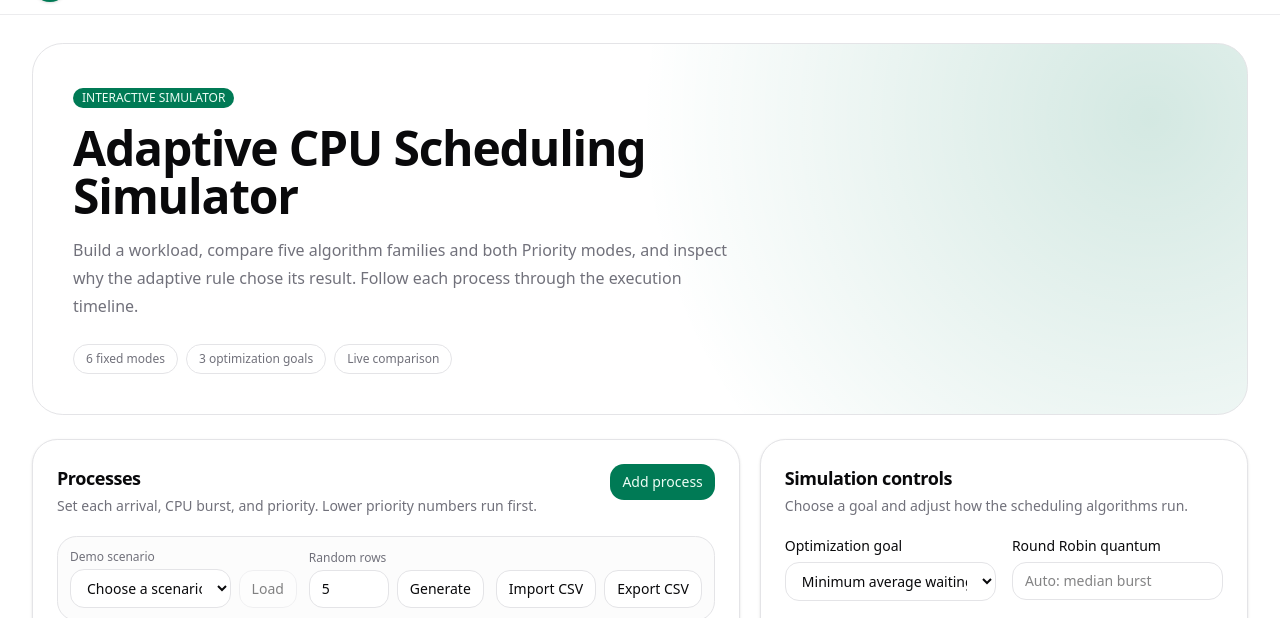
Test case: simulator workflow › runs the manually adjusted batch demo scenario
Select "Batch high variance" in the dropdown labelled "Demo scenario" at {"x": 150, "y": 588}, box [70,569,231,608]
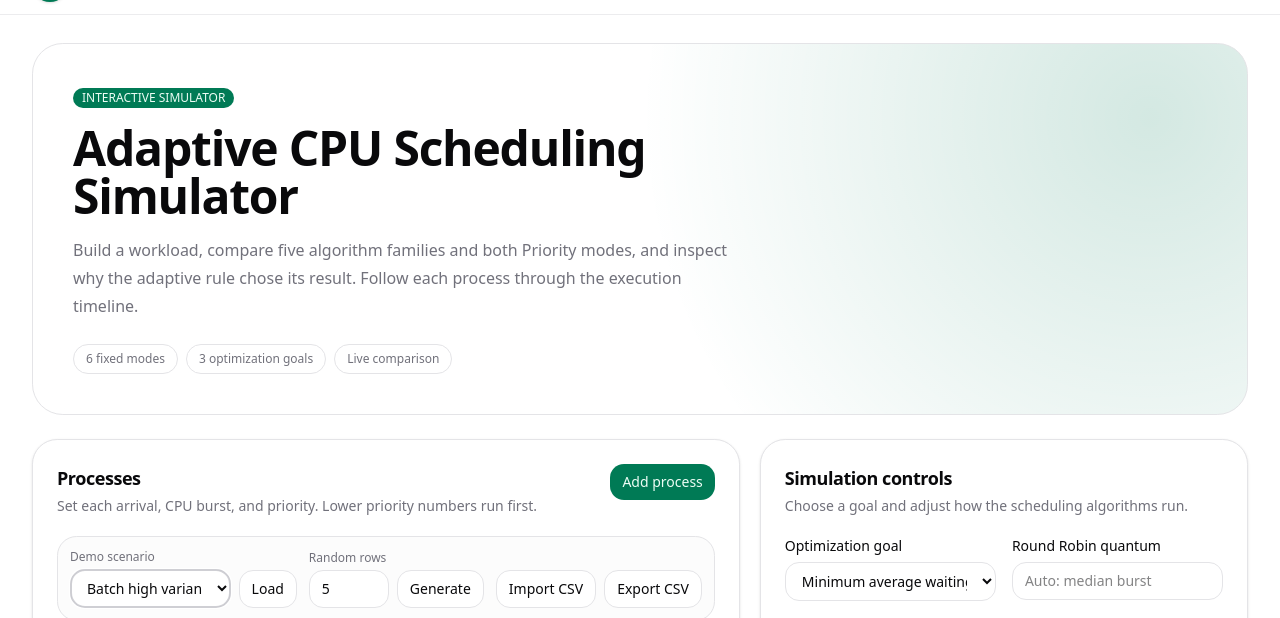
Click the button "Load" at {"x": 268, "y": 589}, box [239,570,297,608]
(page scrolled)
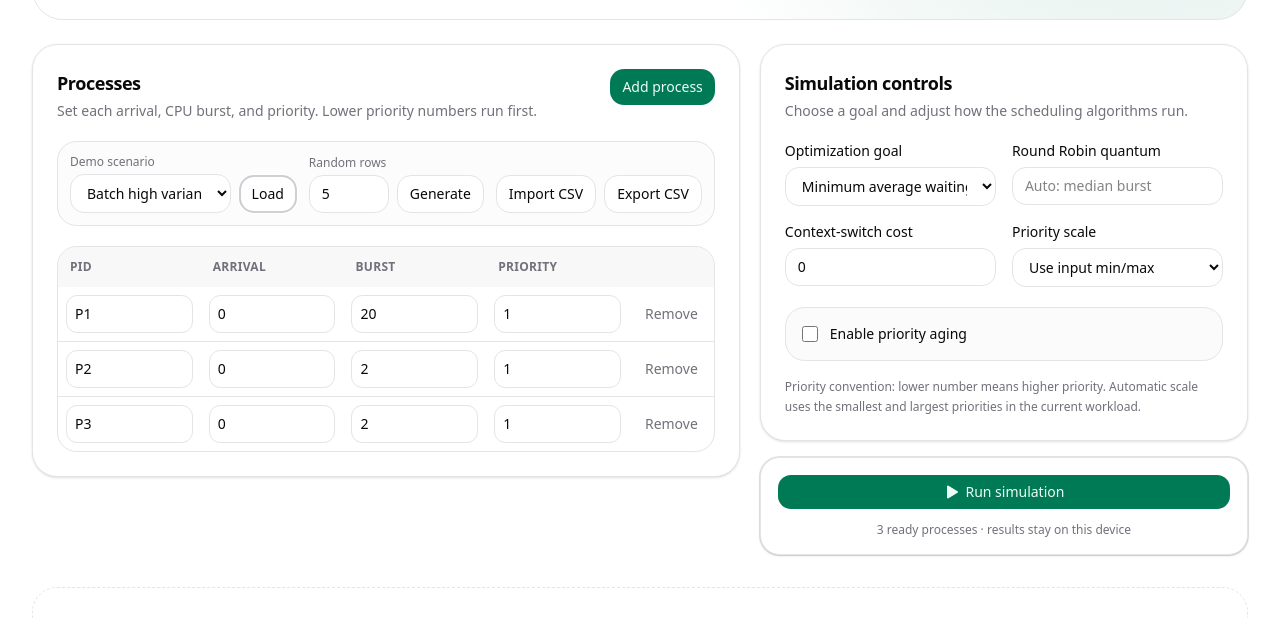
Replace the text in the number field named "Burst for row 1" with "18" at {"x": 415, "y": 314}, box [351,295,478,333]
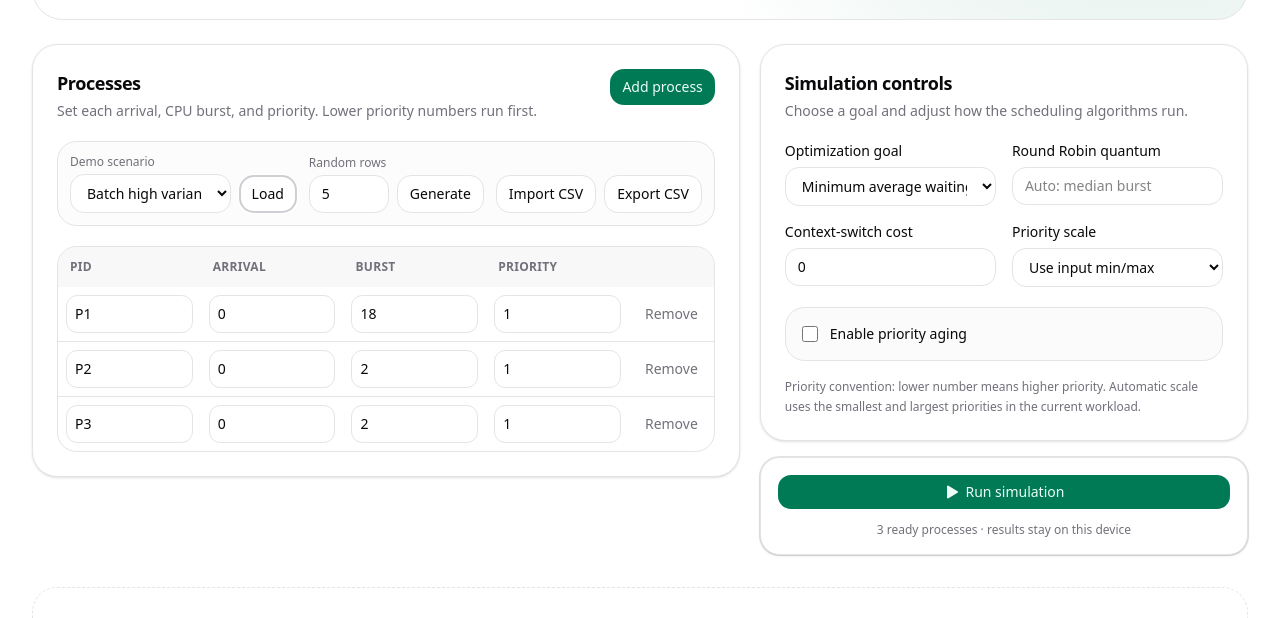
Click the button "Run simulation" at {"x": 1004, "y": 492}, box [777,474,1231,510]
(page scrolled)
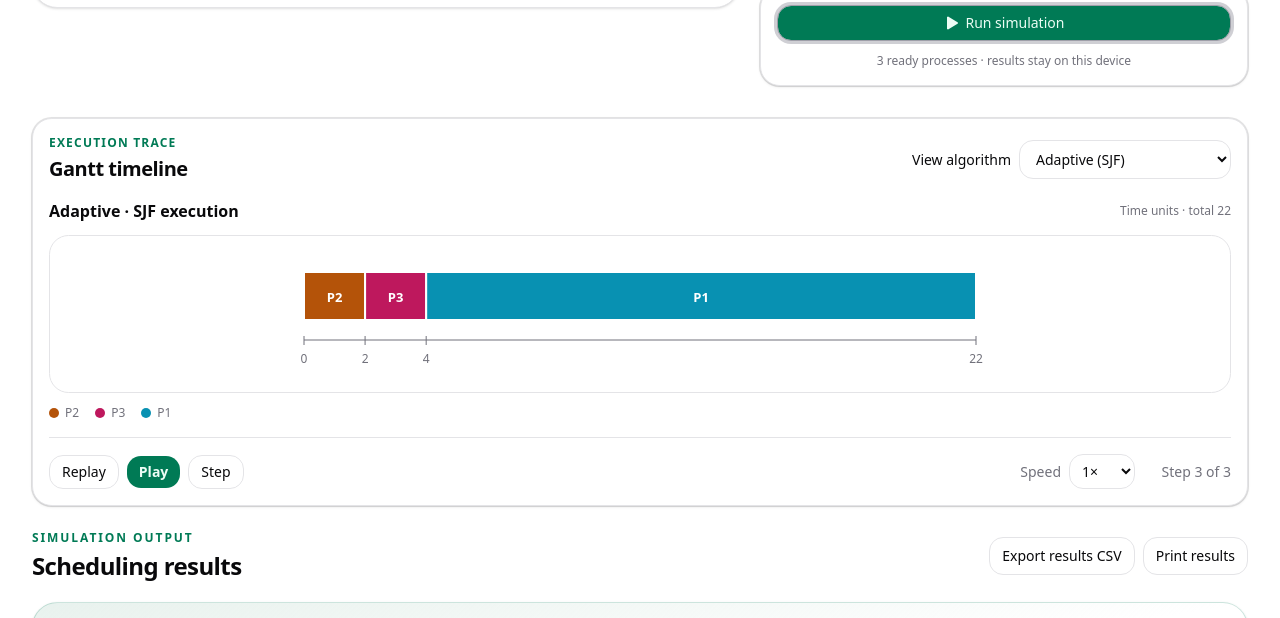
Now the icon "P2 P3 P1 0 2 4 22" is shown, box [62,248,1218,380]
